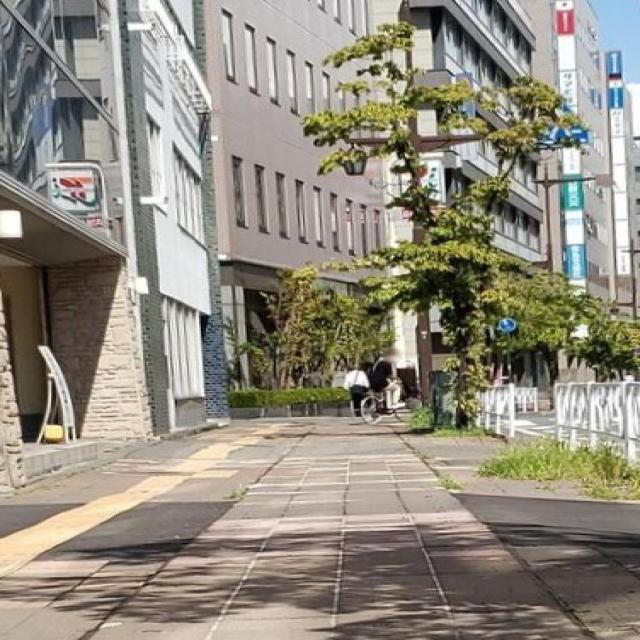dogwood: (290, 19, 639, 429)
